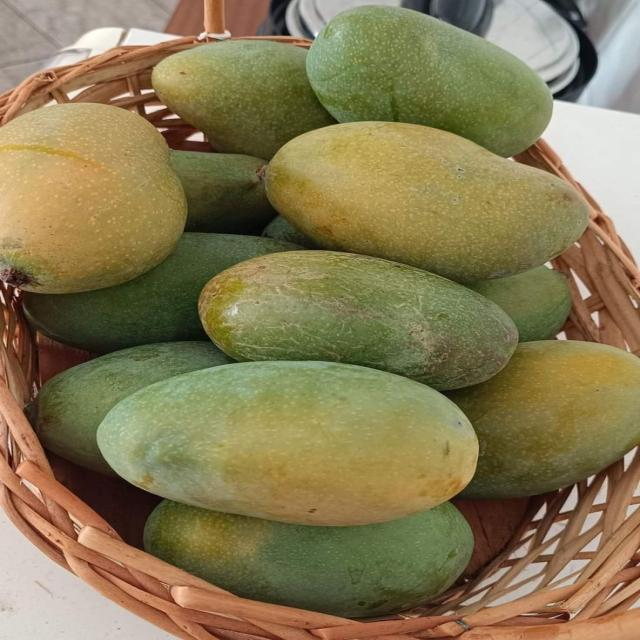mango: (98, 362, 478, 526), (266, 122, 588, 281), (200, 251, 518, 389), (145, 501, 473, 617), (307, 7, 552, 156), (0, 104, 186, 293), (25, 233, 300, 352), (448, 341, 639, 498), (28, 342, 232, 474), (152, 41, 335, 158), (171, 151, 276, 234), (468, 266, 572, 341), (263, 216, 316, 248)
